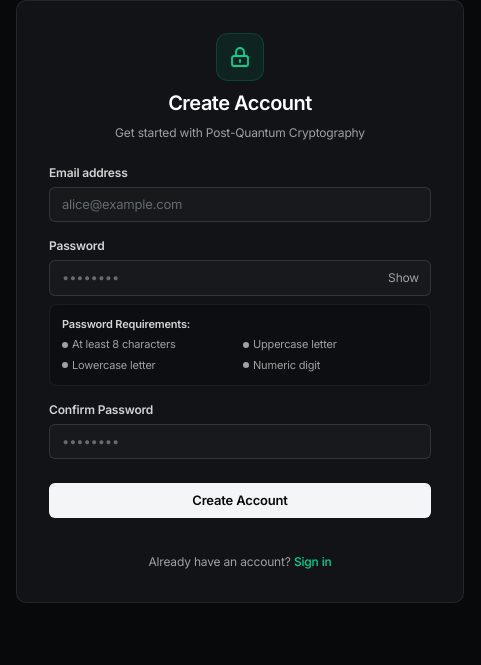
Test: RegisterForm Component › validates empty inputs on submission
The image size is (481, 665).
What coordinates should you click on to do the following:
click the button "Create Account"
I would click on:
 (240, 501)
Its box is [49,483,431,518].
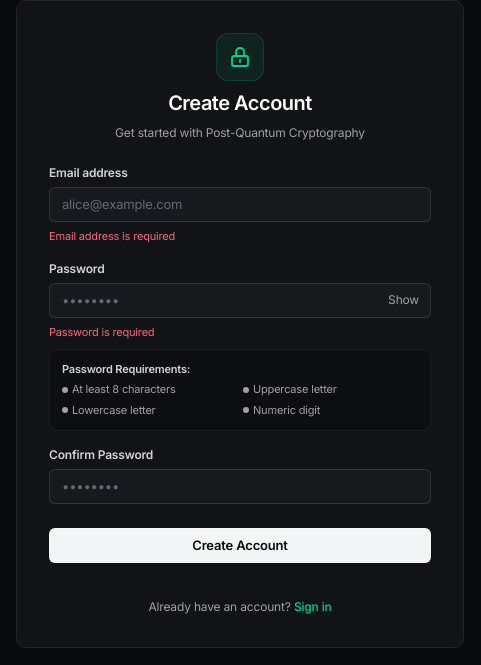
Expected: the text "Email address is required" is shown, [49,229,175,243]
Expected: the text "Password is required" is shown, [49,325,154,339]
